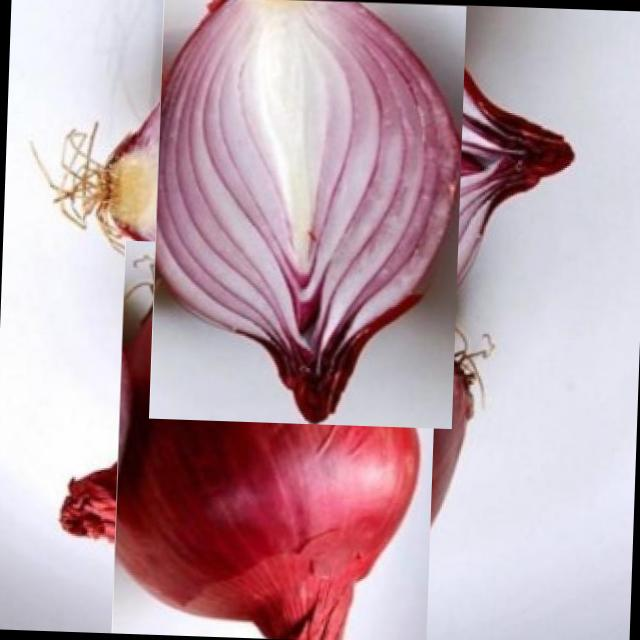Onion: (94, 0, 522, 375), (74, 275, 474, 640)
